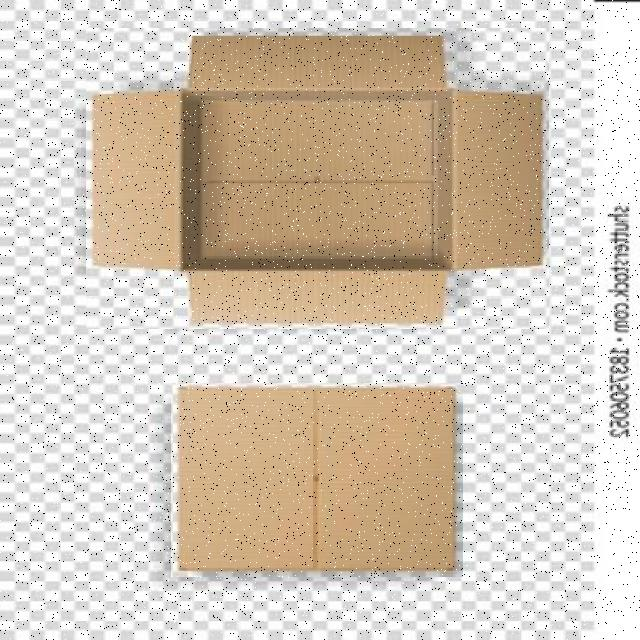defect: (86, 28, 549, 329)
normal: (171, 383, 463, 577)
